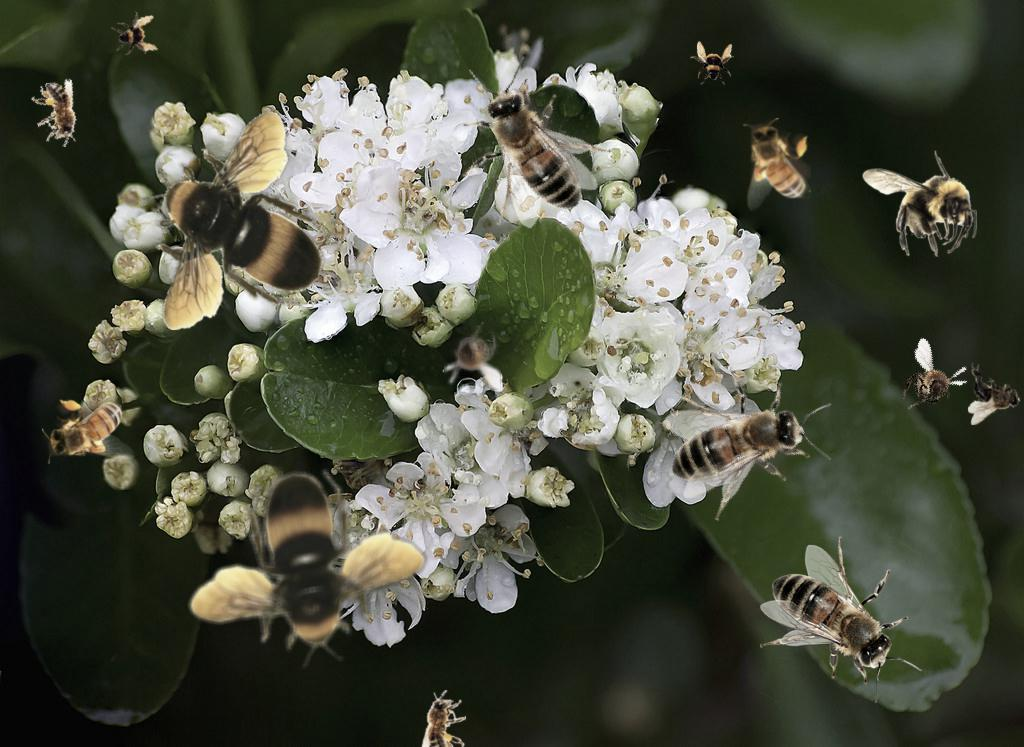Bee: (153, 430, 445, 717), (627, 324, 858, 554), (420, 40, 633, 254), (140, 110, 331, 330), (760, 536, 922, 703), (862, 150, 977, 257), (890, 337, 977, 427), (42, 396, 135, 464), (743, 118, 811, 211), (27, 76, 89, 153), (442, 322, 503, 392), (968, 363, 1021, 425), (108, 7, 162, 61), (421, 690, 466, 747), (690, 41, 734, 85)
